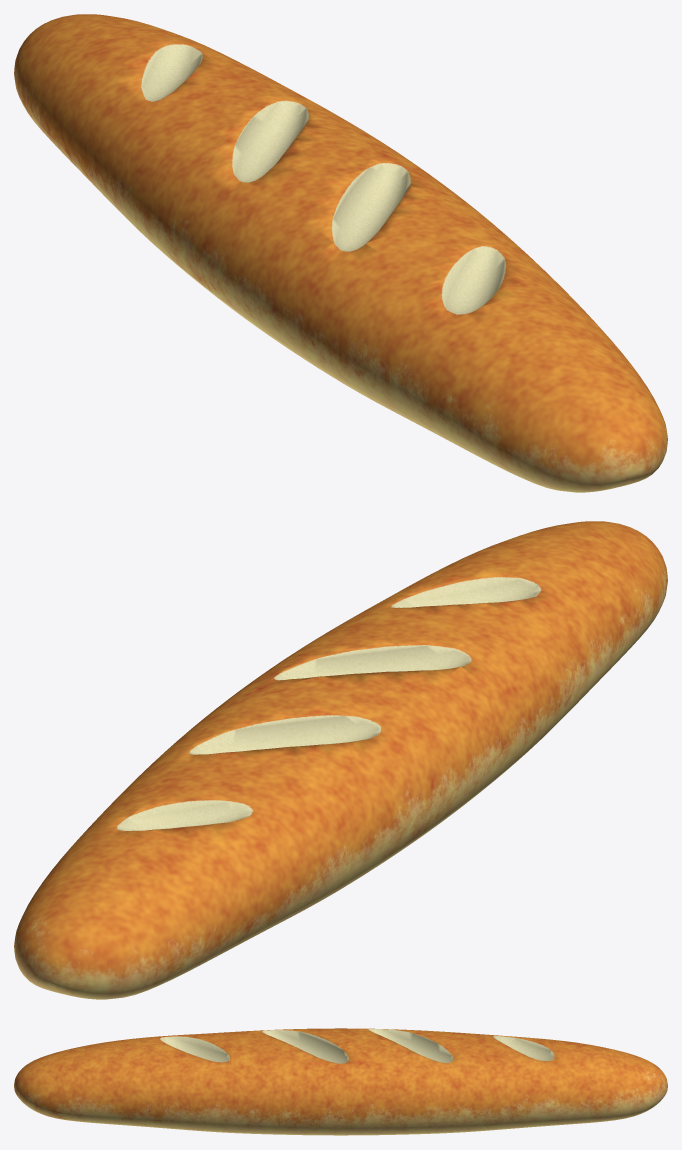
The model's file is French bread.fbx.
3 views of the same model, one above another, from view 1: azimuth 30°, elevation 25°; view 2: azimuth 150°, elevation 25°; view 3: azimuth 270°, elevation 25° (orthographic). The views are drawn at different scales.
Visible parts, largest first — view 1: French bread; view 2: French bread; view 3: French bread.
Part boxes in pixels (x1,y1,x2,y2): French bread: (14, 14, 667, 492); French bread: (14, 521, 667, 999); French bread: (14, 1028, 667, 1135).
Size of the model in its own units: 202 by 113 by 879.
Materials: 1 (1 with a texture image).
